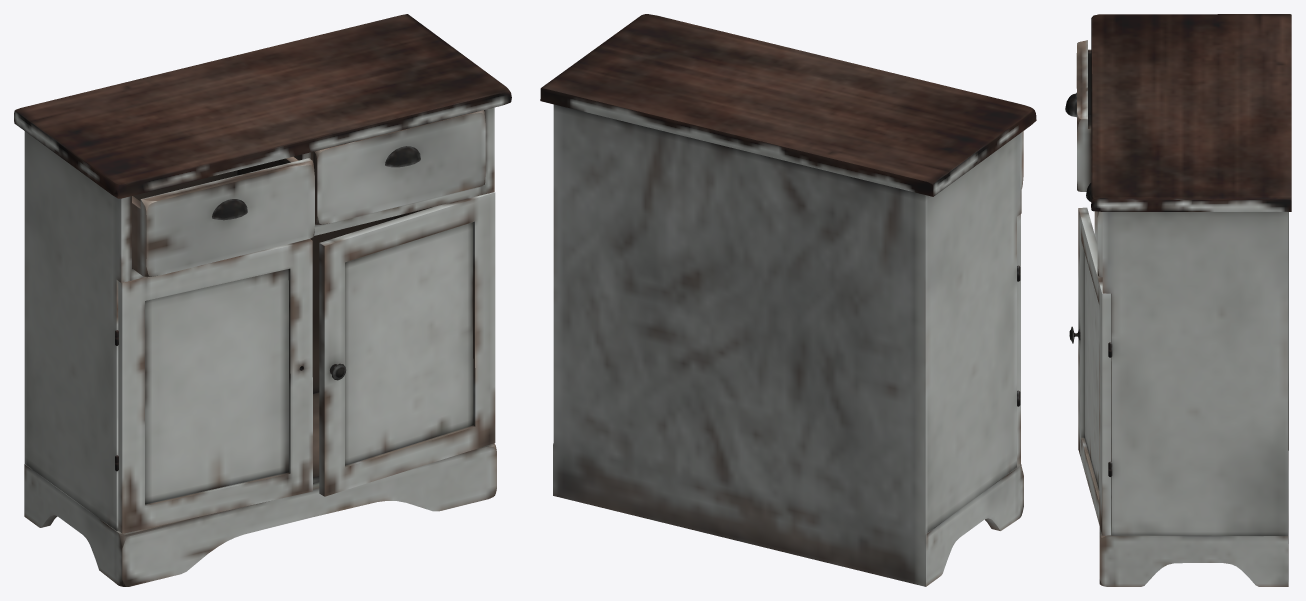
Rendered from painted_wooden_cabinet.fbx.
The picture shows the model from 3 angles, left to right: view 1: azimuth 30°, elevation 25°; view 2: azimuth 150°, elevation 25°; view 3: azimuth 270°, elevation 25°; orthographic projection. The views are drawn at different scales.
Visible parts, largest first — view 1: painted_wooden_cabinet; view 2: painted_wooden_cabinet; view 3: painted_wooden_cabinet.
Part boxes in pixels (x1,y1,x2,y2): painted_wooden_cabinet: (14, 14, 511, 586); painted_wooden_cabinet: (540, 14, 1036, 586); painted_wooden_cabinet: (1065, 14, 1291, 586).
Bounding box in the file's own units: 1.19 × 1.18 × 0.6166.
